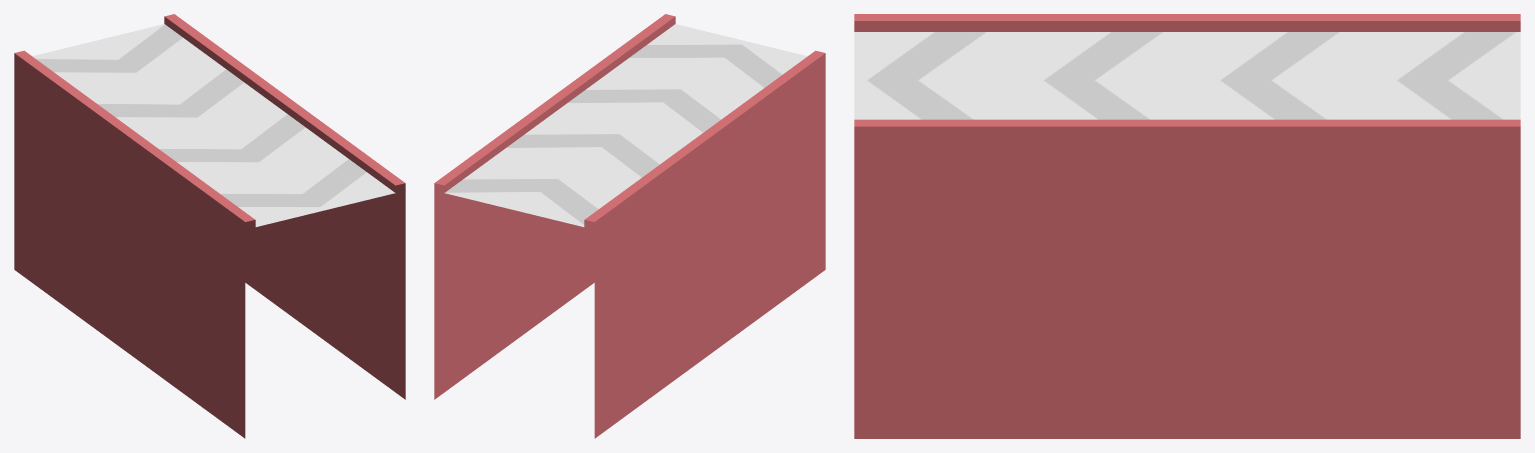
File: M_STR_Road_01.fbx
3 views of the same model, side by side, from view 1: azimuth 30°, elevation 25°; view 2: azimuth 150°, elevation 25°; view 3: azimuth 270°, elevation 25° (orthographic). The views are drawn at different scales.
Visible parts, largest first — view 1: M_STR_Road_01; view 2: M_STR_Road_01; view 3: M_STR_Road_01.
Boxes of the visible parts, x1,y1,x2,y2 form: M_STR_Road_01: [14, 14, 405, 438]; M_STR_Road_01: [434, 14, 825, 438]; M_STR_Road_01: [854, 14, 1520, 438].
Size of the model in its own units: 8 by 10.35 by 20.
